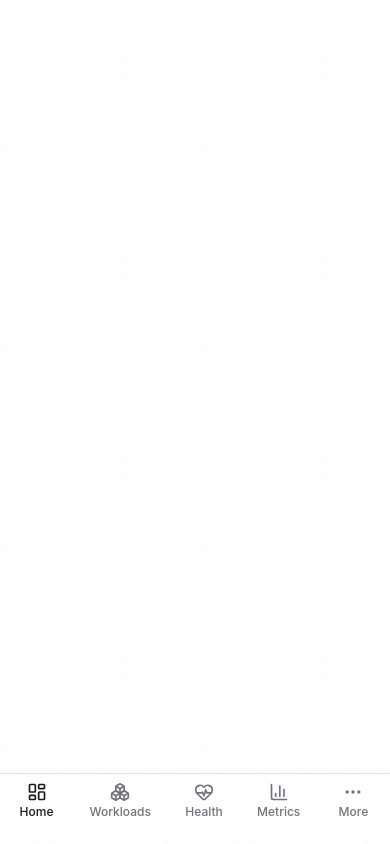
Scenario: MobileBottomNav › opens drawer when More is clicked
Click the button with aria-label "More pages" at (353, 801), box top-left (325, 774), bottom-right (381, 828)
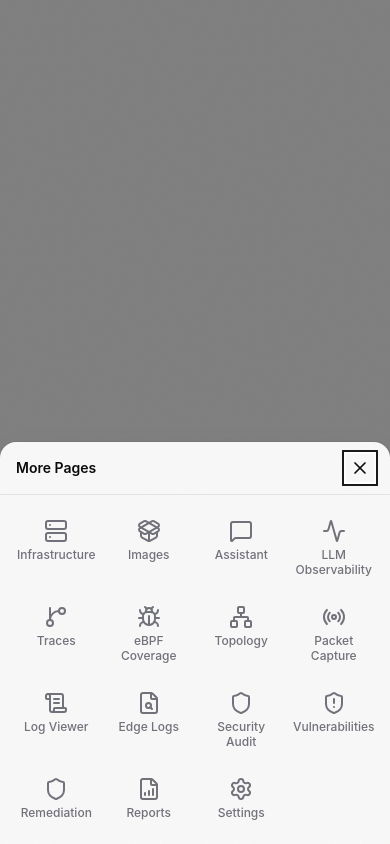
Check: the text "More Pages" is shown, box top-left (16, 458), bottom-right (96, 478)
Check: the text "Infrastructure" is shown, box top-left (17, 547), bottom-right (96, 562)
Check: the text "Settings" is shown, box top-left (218, 805), bottom-right (265, 820)
